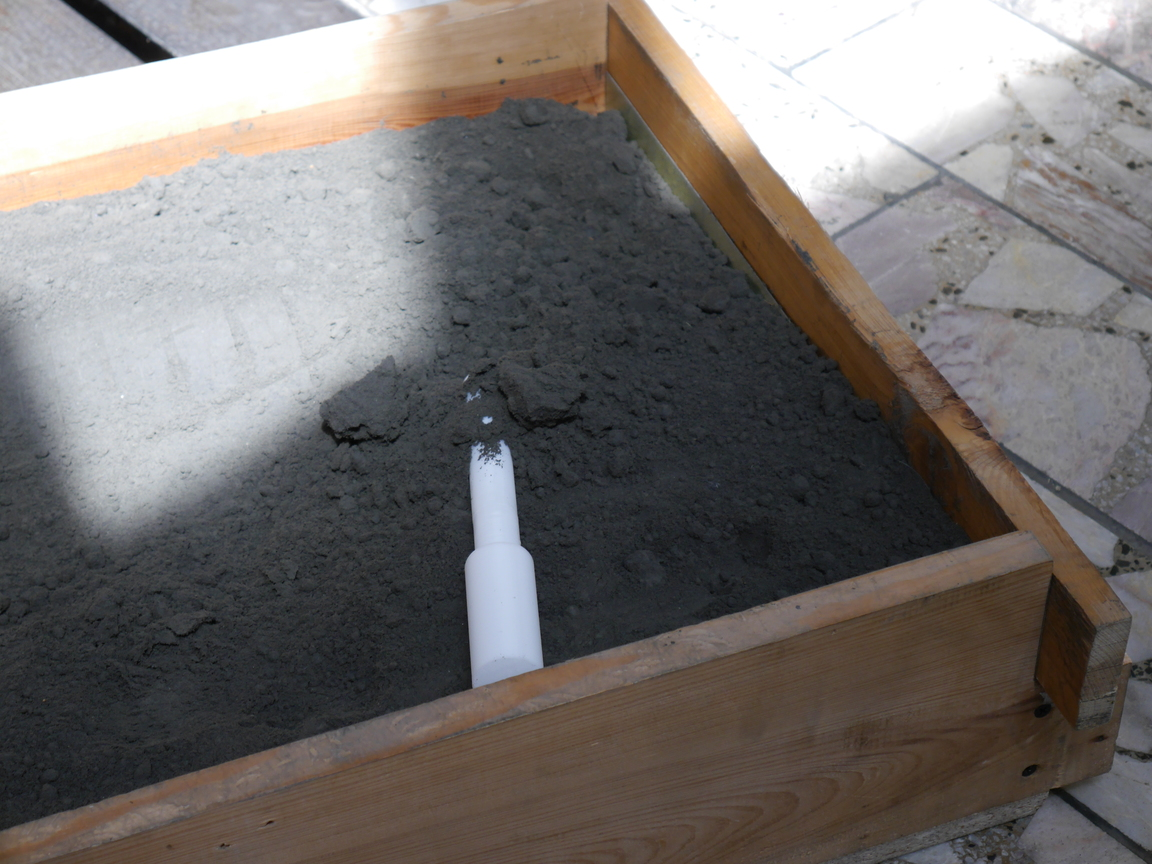cargo_g: (466, 432, 541, 690)
